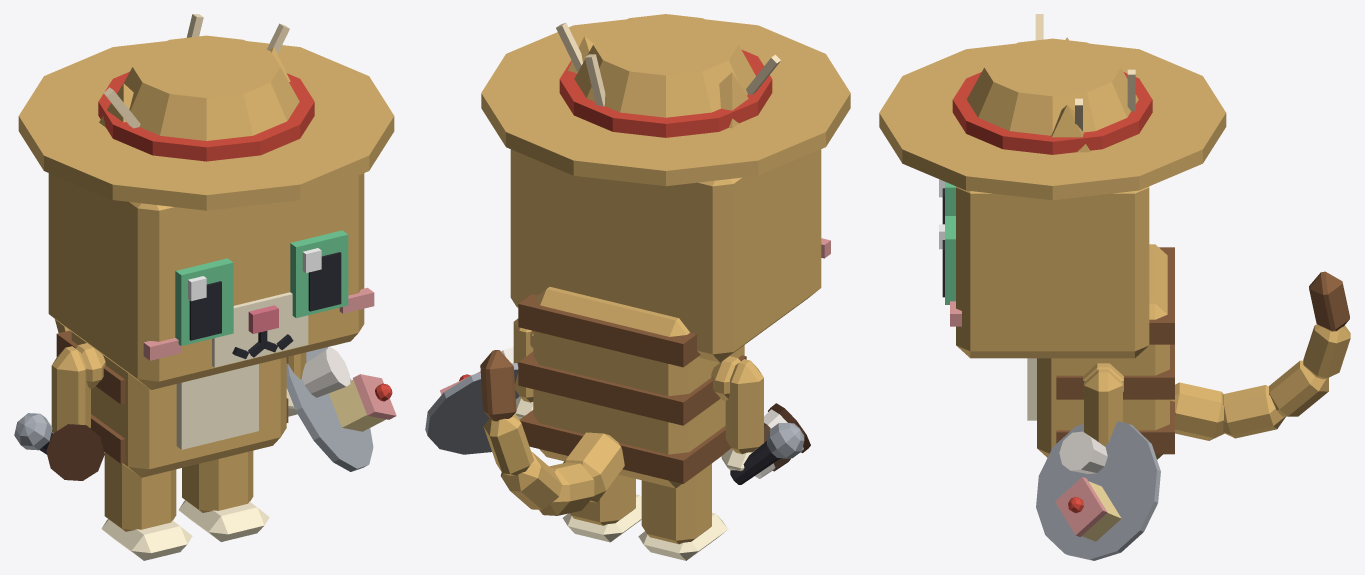
File: CatCafe_Cat_HayBale_Work.glb
3 renders of one model, left to right at view 1: azimuth 30°, elevation 25°; view 2: azimuth 150°, elevation 25°; view 3: azimuth 270°, elevation 25°, orthographic. The views are drawn at different scales.
Visible parts, largest first — view 1: CatCafe_Cat_HayBale_Work_Prop, CatCafe_Cat_HayBale_Work_Head, CatCafe_Cat_HayBale_Work_Body, CatCafe_Cat_HayBale_Work_Held_Waiter, CatCafe_Cat_HayBale_Work_LegB2, CatCafe_Cat_HayBale_Work_LegB1, CatCafe_Cat_HayBale_Work_Eye2, CatCafe_Cat_HayBale_Work_Eye1, CatCafe_Cat_HayBale_Work_LegF2, CatCafe_Cat_HayBale_Work_Held_Barista, CatCafe_Cat_HayBale_Work_Held_Entertainer, CatCafe_Cat_HayBale_Work_LegF1; view 2: CatCafe_Cat_HayBale_Work_Prop, CatCafe_Cat_HayBale_Work_Head, CatCafe_Cat_HayBale_Work_Body, CatCafe_Cat_HayBale_Work_Tail, CatCafe_Cat_HayBale_Work_LegB2, CatCafe_Cat_HayBale_Work_Held_Waiter, CatCafe_Cat_HayBale_Work_LegF2, CatCafe_Cat_HayBale_Work_LegB1, CatCafe_Cat_HayBale_Work_Held_Entertainer, CatCafe_Cat_HayBale_Work_LegF1, CatCafe_Cat_HayBale_Work_Held_Barista, CatCafe_Cat_HayBale_Work_EarR; view 3: CatCafe_Cat_HayBale_Work_Prop, CatCafe_Cat_HayBale_Work_Head, CatCafe_Cat_HayBale_Work_Held_Waiter, CatCafe_Cat_HayBale_Work_Body, CatCafe_Cat_HayBale_Work_Tail, CatCafe_Cat_HayBale_Work_LegF1, CatCafe_Cat_HayBale_Work_Eye1, CatCafe_Cat_HayBale_Work_EarL.
Part boxes in pixels (box(x1,y1,x2,y2)): CatCafe_Cat_HayBale_Work_Prop: box(18, 14, 394, 210); CatCafe_Cat_HayBale_Work_Head: box(48, 173, 374, 389); CatCafe_Cat_HayBale_Work_Body: box(56, 330, 288, 477); CatCafe_Cat_HayBale_Work_Held_Waiter: box(286, 347, 396, 471); CatCafe_Cat_HayBale_Work_LegB2: box(101, 452, 192, 560); CatCafe_Cat_HayBale_Work_LegB1: box(179, 450, 269, 541); CatCafe_Cat_HayBale_Work_Eye2: box(175, 258, 233, 345); CatCafe_Cat_HayBale_Work_Eye1: box(290, 230, 348, 318); CatCafe_Cat_HayBale_Work_LegF2: box(51, 346, 90, 432); CatCafe_Cat_HayBale_Work_Held_Barista: box(46, 424, 104, 480); CatCafe_Cat_HayBale_Work_Held_Entertainer: box(14, 413, 52, 454); CatCafe_Cat_HayBale_Work_LegF1: box(286, 352, 306, 416); CatCafe_Cat_HayBale_Work_Prop: box(481, 14, 850, 186); CatCafe_Cat_HayBale_Work_Head: box(510, 149, 830, 362); CatCafe_Cat_HayBale_Work_Body: box(518, 287, 746, 488); CatCafe_Cat_HayBale_Work_Tail: box(480, 350, 624, 515); CatCafe_Cat_HayBale_Work_LegB2: box(638, 463, 727, 560); CatCafe_Cat_HayBale_Work_Held_Waiter: box(425, 347, 519, 454); CatCafe_Cat_HayBale_Work_LegF2: box(721, 359, 763, 471); CatCafe_Cat_HayBale_Work_LegB1: box(563, 474, 641, 542); CatCafe_Cat_HayBale_Work_Held_Entertainer: box(730, 423, 804, 484); CatCafe_Cat_HayBale_Work_LegF1: box(513, 318, 533, 419); CatCafe_Cat_HayBale_Work_Held_Barista: box(755, 403, 810, 478); CatCafe_Cat_HayBale_Work_EarR: box(719, 72, 748, 128); CatCafe_Cat_HayBale_Work_Prop: box(879, 14, 1226, 200); CatCafe_Cat_HayBale_Work_Head: box(950, 186, 1149, 358); CatCafe_Cat_HayBale_Work_Held_Waiter: box(1036, 421, 1160, 560); CatCafe_Cat_HayBale_Work_Body: box(1027, 244, 1174, 459); CatCafe_Cat_HayBale_Work_Tail: box(1170, 271, 1350, 440); CatCafe_Cat_HayBale_Work_LegF1: box(1084, 369, 1122, 446); CatCafe_Cat_HayBale_Work_Eye1: box(939, 216, 955, 304); CatCafe_Cat_HayBale_Work_EarL: box(1051, 105, 1089, 152).
Bounding box in the file's own units: 1.53 × 1.99 × 1.85.
Materials: 1 (1 with a texture image).
